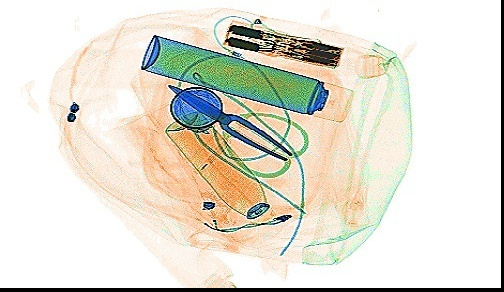pressure: (138, 32, 354, 123), (162, 108, 277, 229)
scissors: (166, 81, 308, 178)
